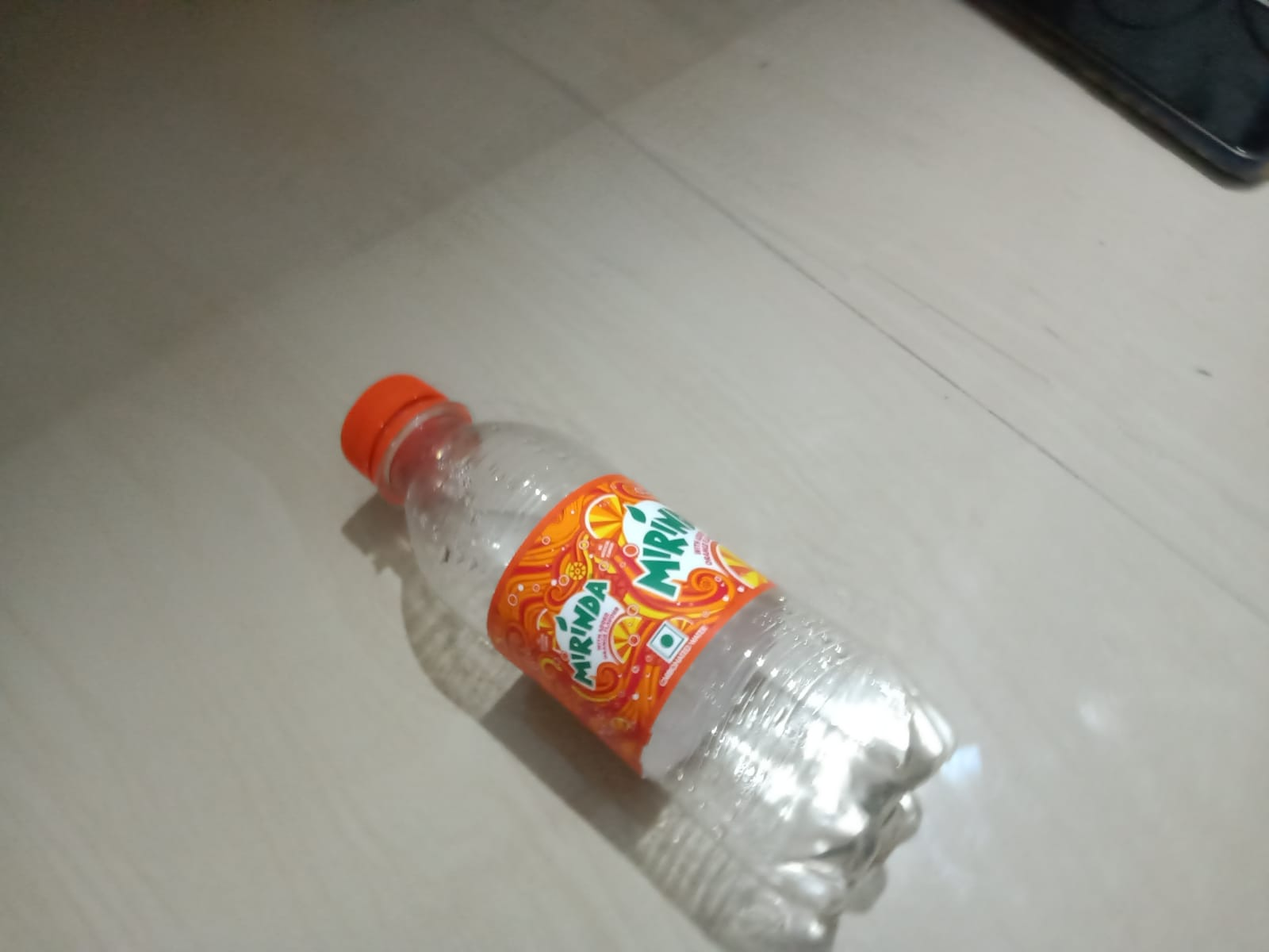plastic: (224, 367, 1173, 952)
